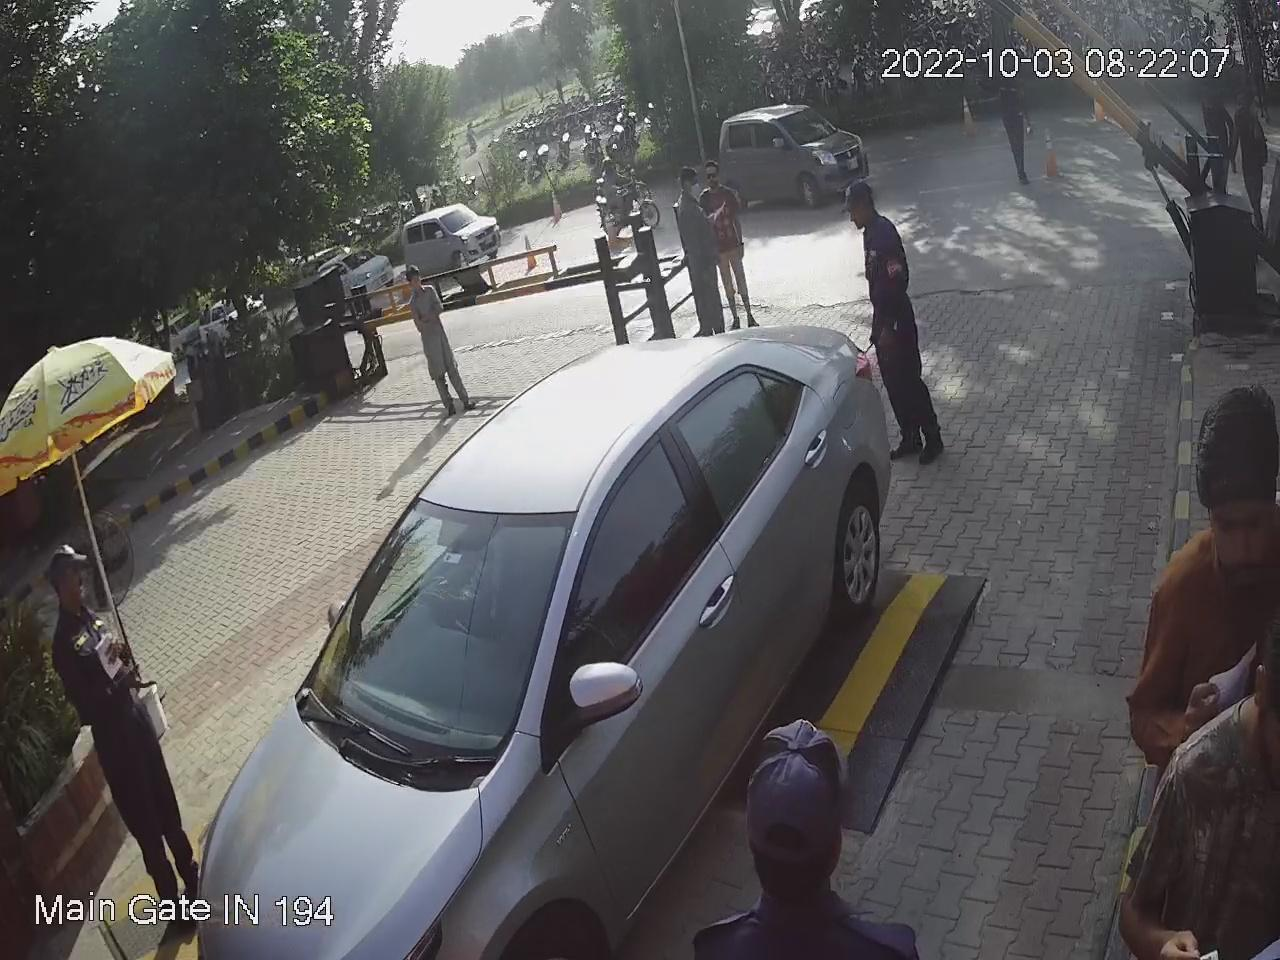windshield: (308, 490, 581, 772)
